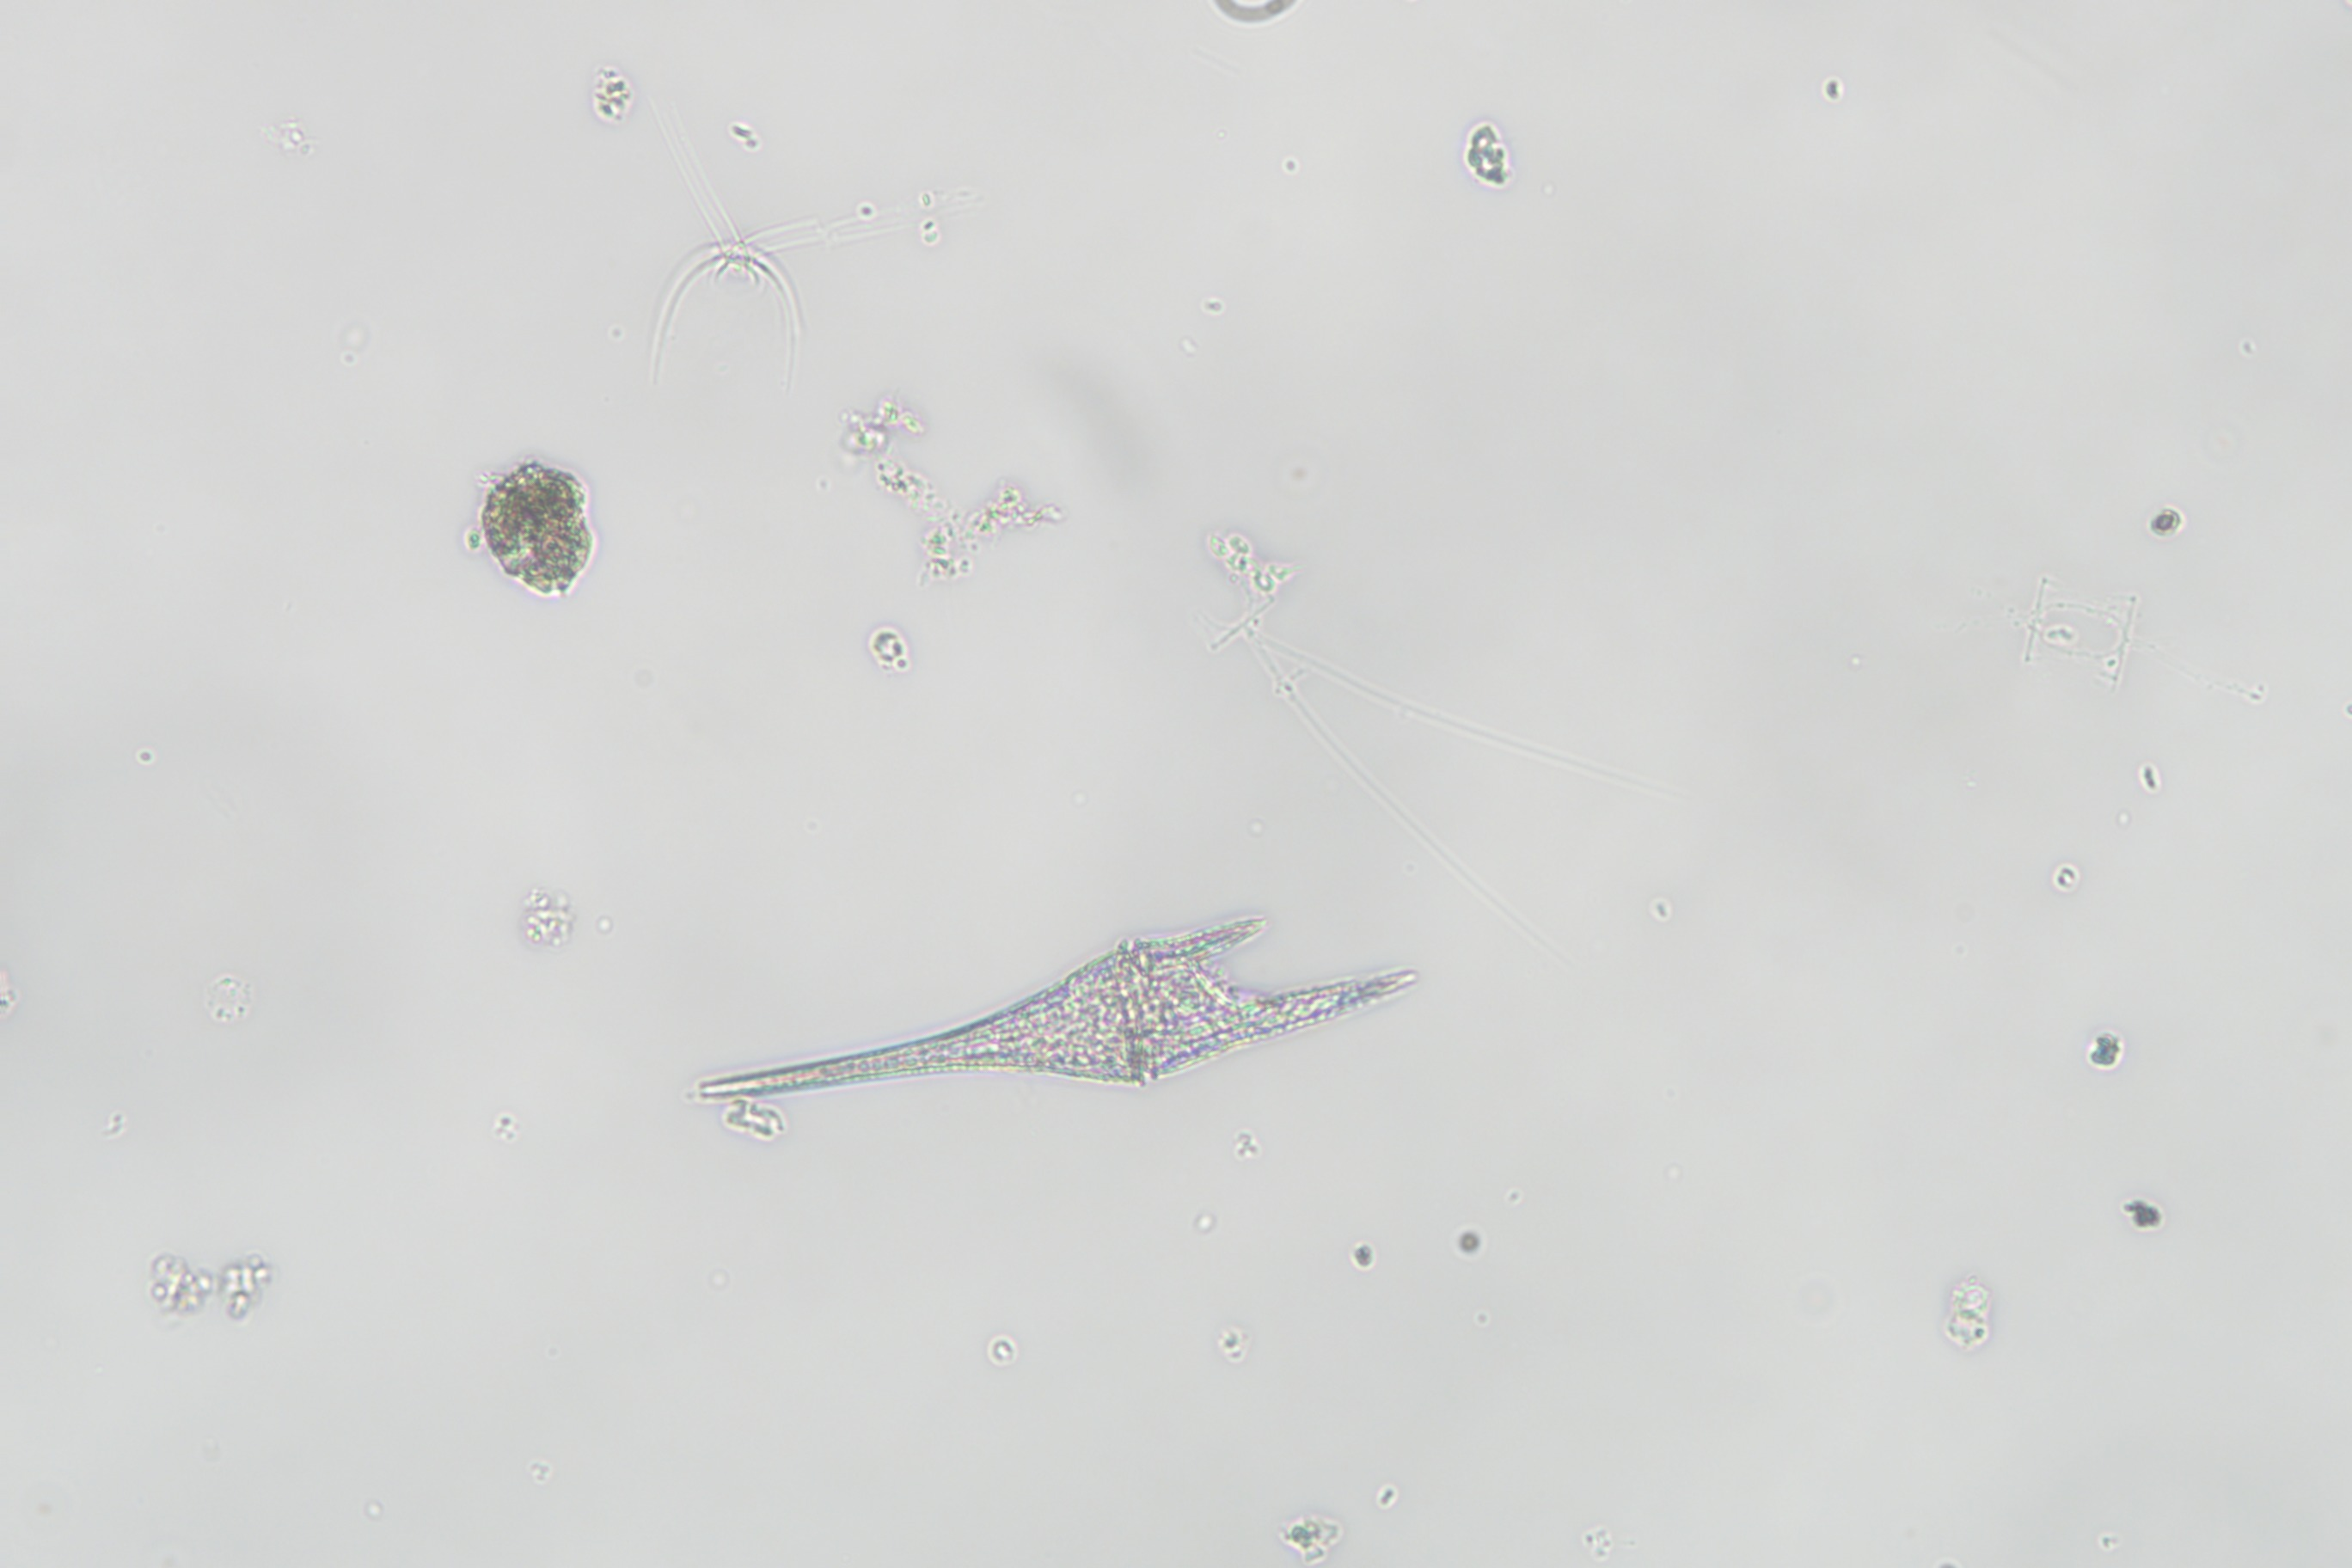ceratium furca: (700, 912, 1428, 1148)
